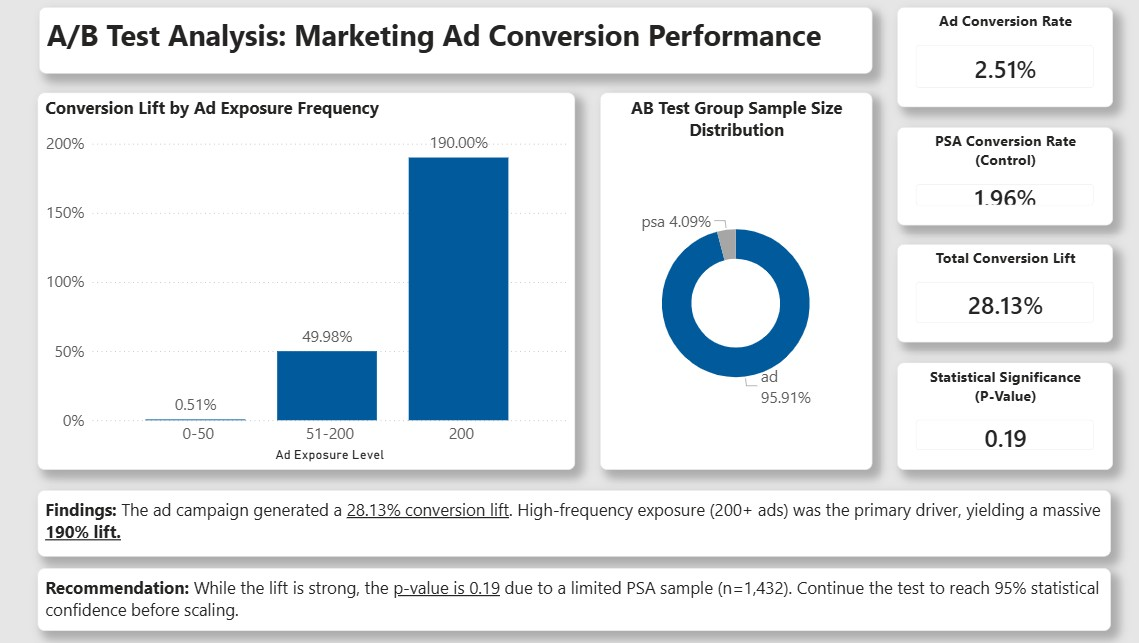

The page's visual inventory and layout, read from the dashboard file:
{"tool":"powerbi","page":{"name":"A/B Test Analysis: Marketing Ad Conversion Performance (Page 1)","canvas":[1280,720],"ordinal":0},"visuals":[{"type":"cardVisual","title":"Total Conversion Lift","fields":{"Data":["marketing_AB_cleaned.Lift %"]},"box":[1003,279.6,240,109.6],"z":0},{"type":"cardVisual","title":"Statistical Significance (P-Value)","fields":{"Data":["marketing_AB_cleaned.P-Value"]},"box":[1003.3,401.7,240,125],"z":1000},{"type":"clusteredColumnChart","title":"Conversion Lift by Ad Exposure Frequency","fields":{"Category":["marketing_AB_cleaned.ads_bucket"],"Y":["marketing_AB_cleaned.Lift %"]},"box":[49.1,107.7,597.2,419.5],"z":2000},{"type":"cardVisual","title":"Ad Conversion Rate","fields":{"Data":["marketing_AB_cleaned.Ad Rate"]},"box":[1003,13.2,240,111.5],"z":3000},{"type":"cardVisual","title":"PSA Conversion Rate (Control)","fields":{"Data":["marketing_AB_cleaned.PSA Rate"]},"box":[1003.3,137.2,240,130],"z":4000},{"type":"donutChart","title":"AB Test Group Sample Size Distribution","fields":{"Y":["CountNonNull(marketing_AB_cleaned.user_id)"],"Category":["marketing_AB_cleaned.test_group"]},"box":[672.8,107.7,302.4,419.5],"z":5000},{"type":"textbox","box":[49.1,549.9,1192.5,73.7],"z":6000},{"type":"textbox","box":[50,14,926,74],"z":7000},{"type":"textbox","box":[49.1,636.9,1192.5,69.9],"z":8000}]}

Visuals, with their boxes in screenshot pixels (x1, y1, x2, y2), scaled from the page's 1280x720 canvas onto the 1139x643 screenshot:
"Total Conversion Lift" cardVisual: select_region(893, 250, 1106, 348)
"Statistical Significance (P-Value)" cardVisual: select_region(893, 359, 1106, 470)
"Conversion Lift by Ad Exposure Frequency" clusteredColumnChart: select_region(44, 96, 575, 471)
"Ad Conversion Rate" cardVisual: select_region(893, 12, 1106, 111)
"PSA Conversion Rate (Control)" cardVisual: select_region(893, 123, 1106, 239)
"AB Test Group Sample Size Distribution" donutChart: select_region(599, 96, 868, 471)
textbox: select_region(44, 491, 1105, 557)
textbox: select_region(44, 13, 868, 79)
textbox: select_region(44, 569, 1105, 631)
